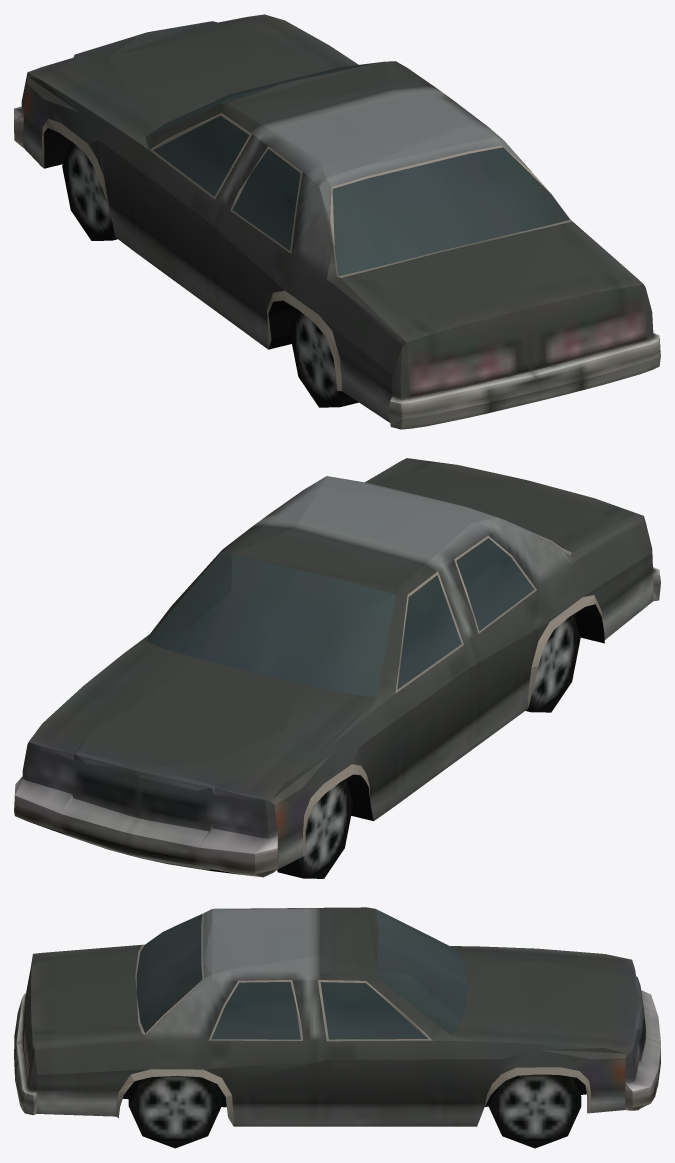
File: car3.glb
3 renders of one model, top to bottom at view 1: azimuth 30°, elevation 25°; view 2: azimuth 150°, elevation 25°; view 3: azimuth 270°, elevation 25°, orthographic. The views are drawn at different scales.
Parts seen in each view (by area): view 1: car3_Material01_0; view 2: car3_Material01_0; view 3: car3_Material01_0.
Part boxes in pixels (bbox=[...]): car3_Material01_0: bbox=[14, 14, 660, 429]; car3_Material01_0: bbox=[14, 458, 660, 878]; car3_Material01_0: bbox=[14, 907, 660, 1148].
Size of the model in its own units: 1.55 by 1.15 by 4.04.
Materials: 1 (1 with a texture image).
